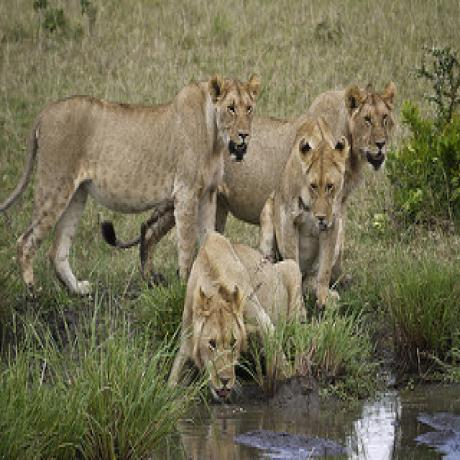Lion: (11, 70, 262, 296), (174, 221, 306, 396), (259, 116, 351, 306), (338, 74, 402, 192)
